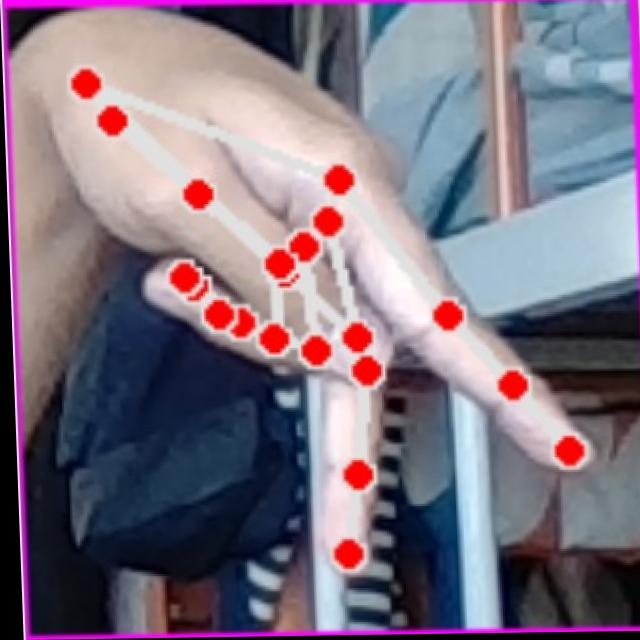P: (41, 7, 600, 586)
